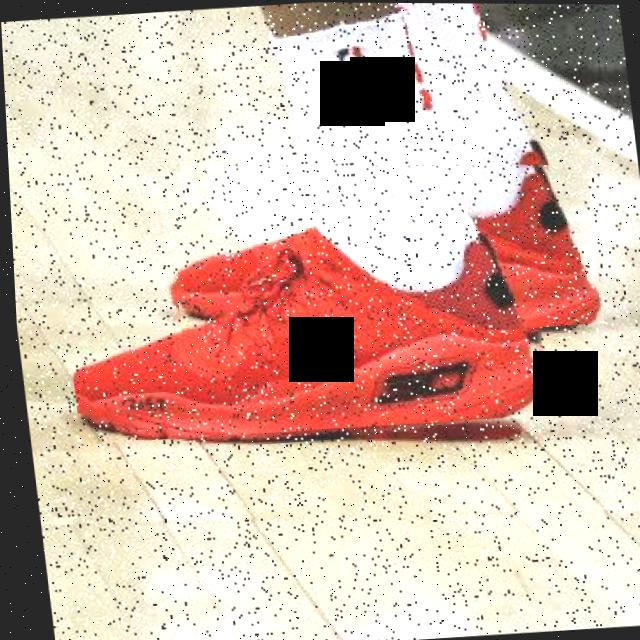shoe: (51, 195, 555, 447), (158, 136, 603, 351)
